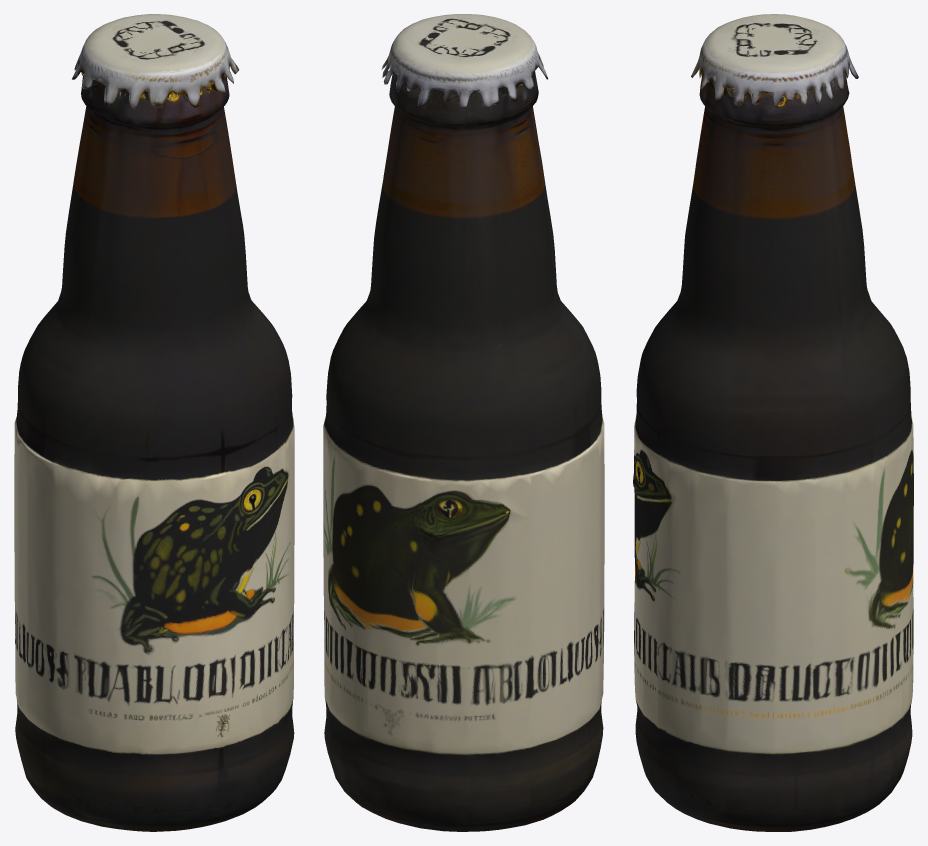
The model's file is diabolicus_porter.glb.
3 views of the same model, side by side, from view 1: azimuth 30°, elevation 25°; view 2: azimuth 150°, elevation 25°; view 3: azimuth 270°, elevation 25° (orthographic).
Size of the model in its own units: 0.6811 by 2 by 0.6822.
Materials: 1 (1 with a texture image).
